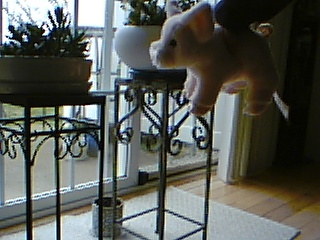piggy: (149, 1, 280, 118)
